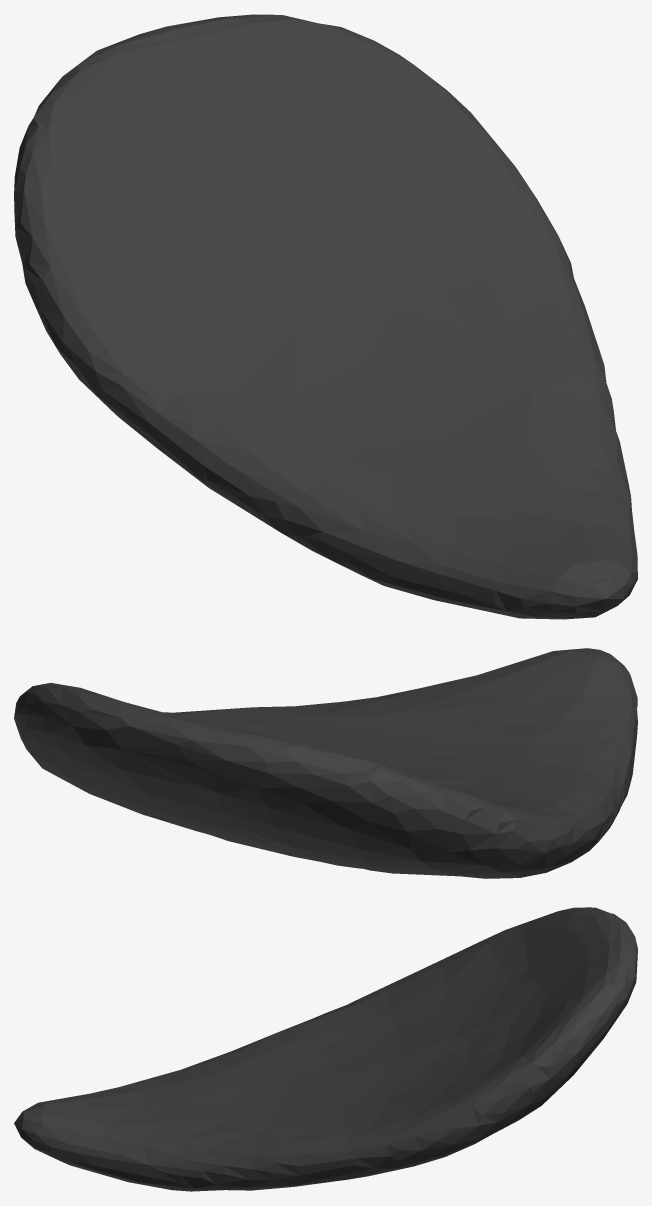
Rendered from m_occipitalis.glb.
The picture shows the model from 3 angles, top to bottom: view 1: azimuth 30°, elevation 25°; view 2: azimuth 150°, elevation 25°; view 3: azimuth 270°, elevation 25°; orthographic projection. The views are drawn at different scales.
Visible parts, largest first — view 1: m_occipitalis; view 2: m_occipitalis; view 3: m_occipitalis.
Boxes of the visible parts, x1=… form: m_occipitalis: x1=14, y1=14, x2=637, y2=619; m_occipitalis: x1=14, y1=648, x2=637, y2=878; m_occipitalis: x1=14, y1=907, x2=637, y2=1191.
Size of the model in its own units: 0.000572 by 0.000344 by 0.000895.
1 material, 1 textured.
